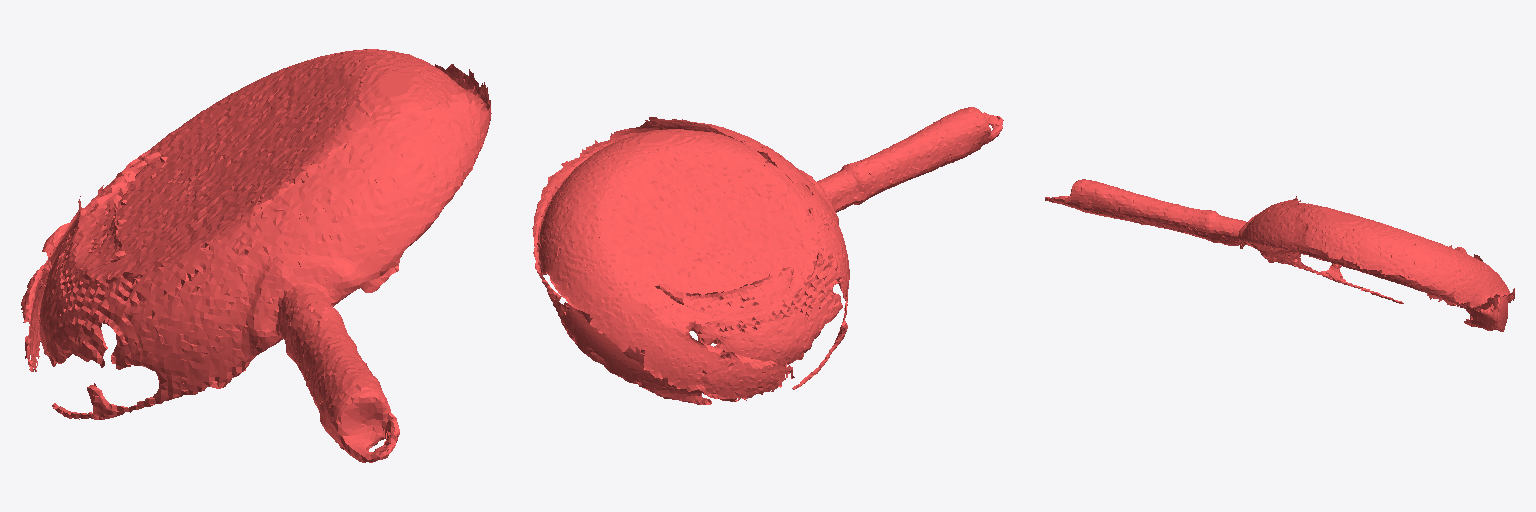
robot.urdf — pan.urdf:
<?xml version="1.0" ?>
<robot name="pan.urdf">
  <dynamics friction="0.9"/>
  <link name="baseLink">
    <visual>
      <origin rpy="0 0 0" xyz="0 0 0"/>
      <geometry>
        <mesh filename="pan.obj" scale="1. 1. 1."/>
      </geometry>
       <material name="red">
        <color rgba="1 0.4 0.4 1"/>
      </material>
    </visual>
    <collision>
      <origin rpy="0 0 0" xyz="0 0 0"/>
      <geometry>
        <mesh filename="pan.obj" scale="1. 1. 1."/>
      </geometry>
    </collision>
  </link>
</robot>

--- What the picture shows (computed from the rendered views, not written in the file) ---
The picture shows the robot from 3 angles, left to right: view 1: azimuth 30°, elevation 25°; view 2: azimuth 150°, elevation 25°; view 3: azimuth 270°, elevation 25°; orthographic projection.
Robot: pan.urdf — 1 links, 0 joints (none); root link baseLink; default pose: every joint at zero.
Visible links, largest first — view 1: baseLink; view 2: baseLink; view 3: baseLink.
Boxes of the visible links, x1=… form: baseLink: x1=21, y1=49, x2=491, y2=462; baseLink: x1=532, y1=107, x2=1003, y2=404; baseLink: x1=1045, y1=179, x2=1514, y2=331.
Size in the robot's own frame: 0.2285 by 0.4109 by 0.1578 metres.
1 mesh visuals loaded from 1 distinct referenced files (1 OBJ).